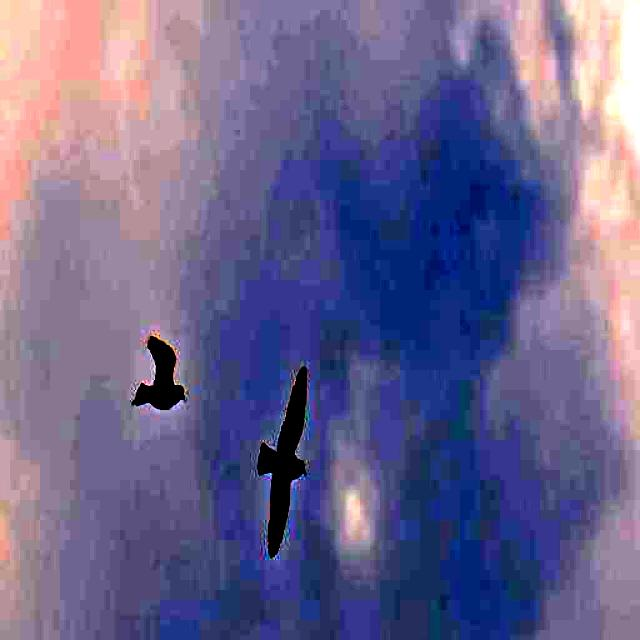airplane: (248, 341, 324, 572), (128, 324, 199, 416)
